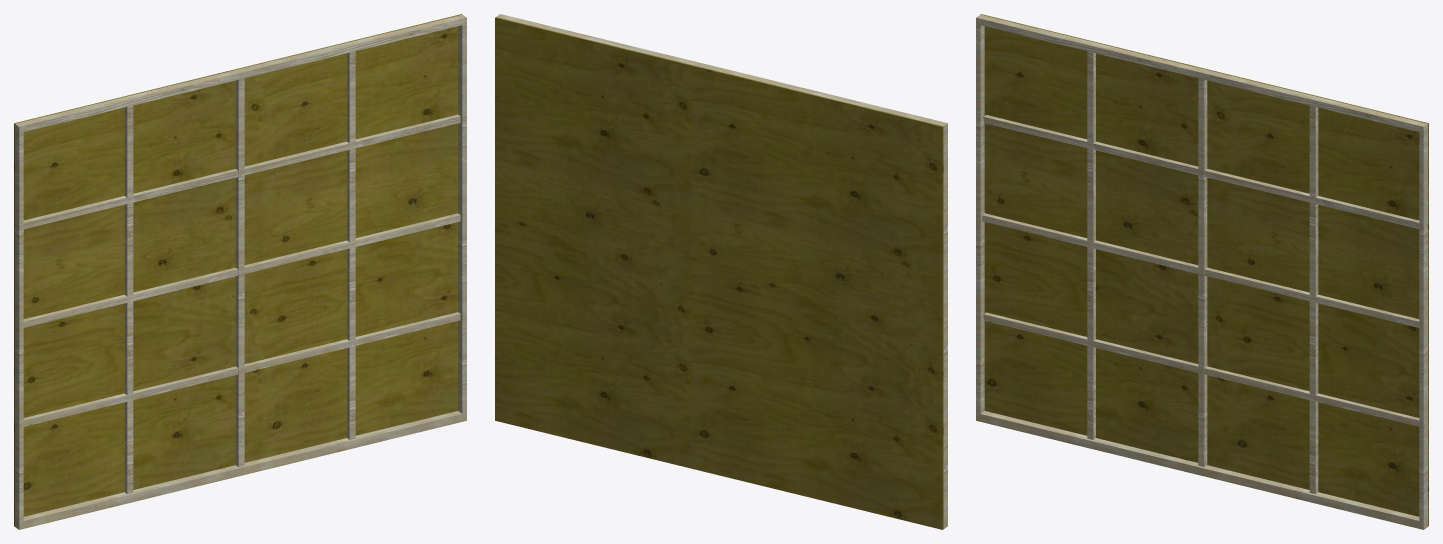
Rendered from wooden_wall2.dae.
3 renders of one model, left to right at view 1: azimuth 30°, elevation 25°; view 2: azimuth 150°, elevation 25°; view 3: azimuth 330°, elevation 25°, orthographic.
Visible parts, largest first — view 1: SketchUp (×5); view 2: SketchUp (×2); view 3: SketchUp (×5).
Part boxes in pixels (bbox=[...]): SketchUp (×5): bbox=[14, 14, 466, 529]; SketchUp (×2): bbox=[495, 14, 947, 529]; SketchUp (×5): bbox=[976, 14, 1428, 529].
Size of the model in its own units: 118 by 2.36 by 102.
4 materials, 2 textured.
